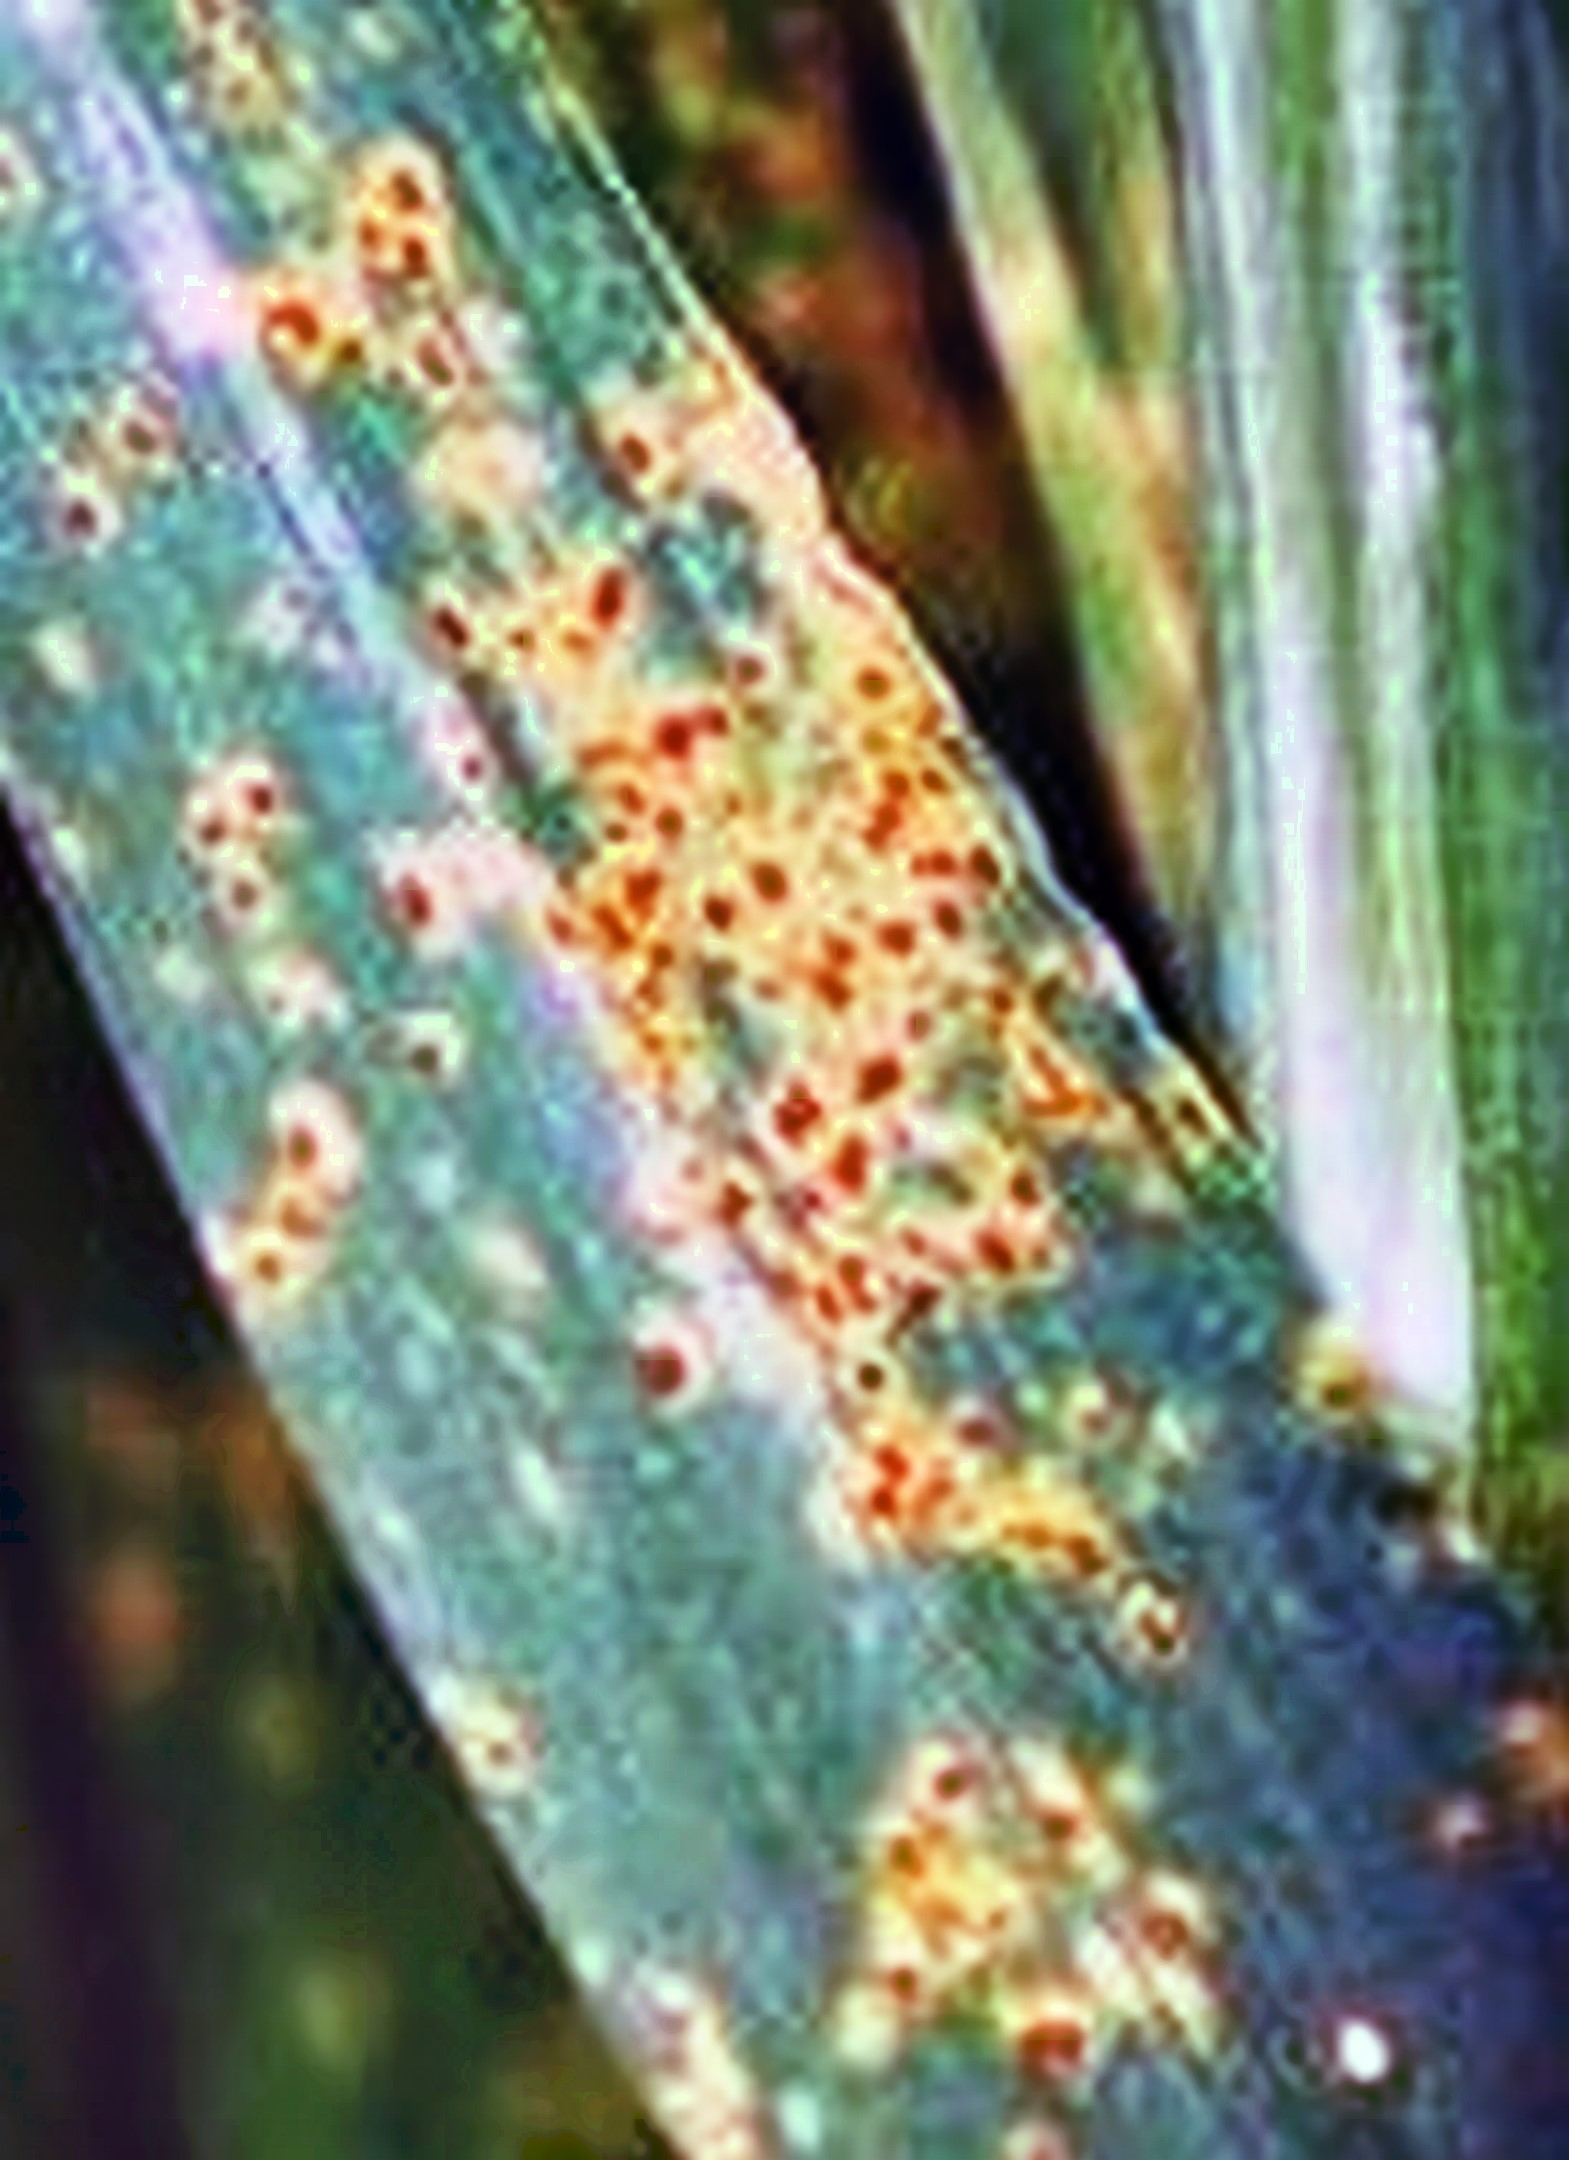Leaf Rust: (189, 225, 1267, 2131)
